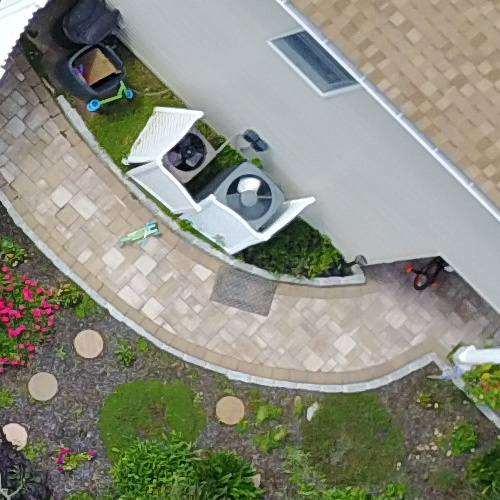air conditioner: (209, 151, 289, 239), (149, 117, 220, 198)
trash bin: (50, 37, 137, 120), (49, 1, 127, 65)
